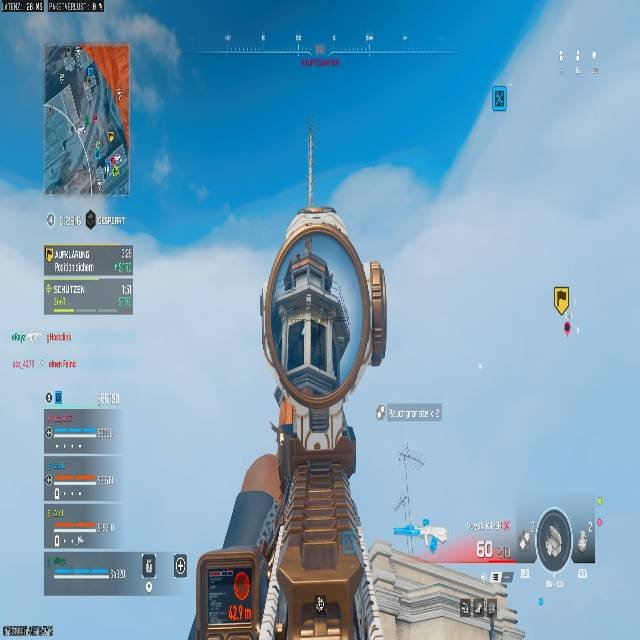head: (258, 206, 388, 415)
